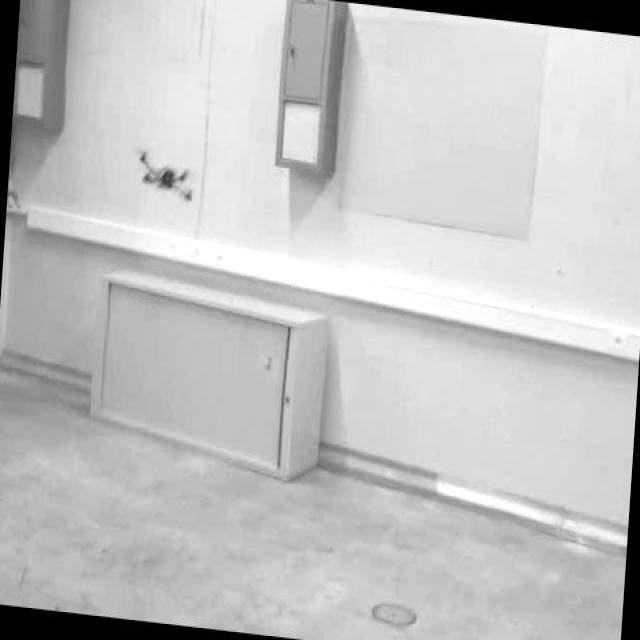drone: (131, 151, 194, 206)
